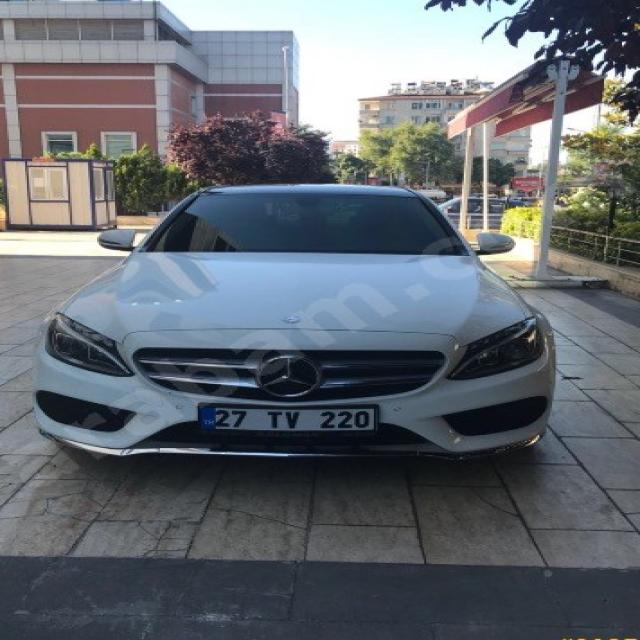license_plate: (196, 406, 376, 432)
